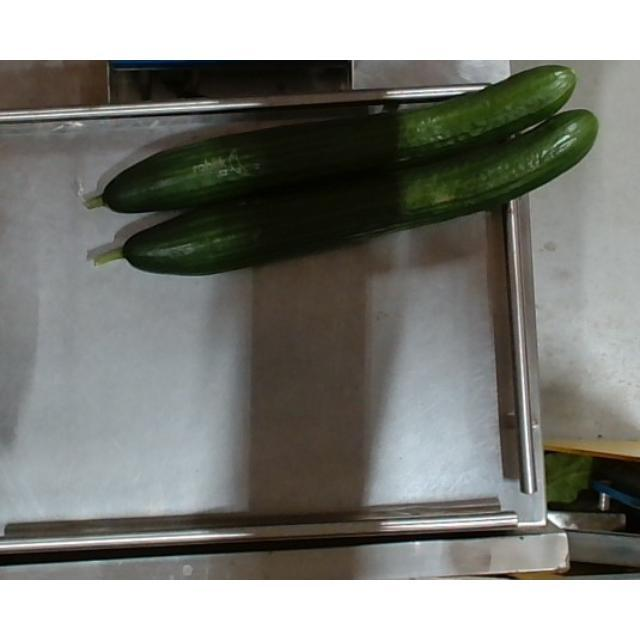cucumber: (105, 95, 601, 279), (64, 60, 604, 222)
